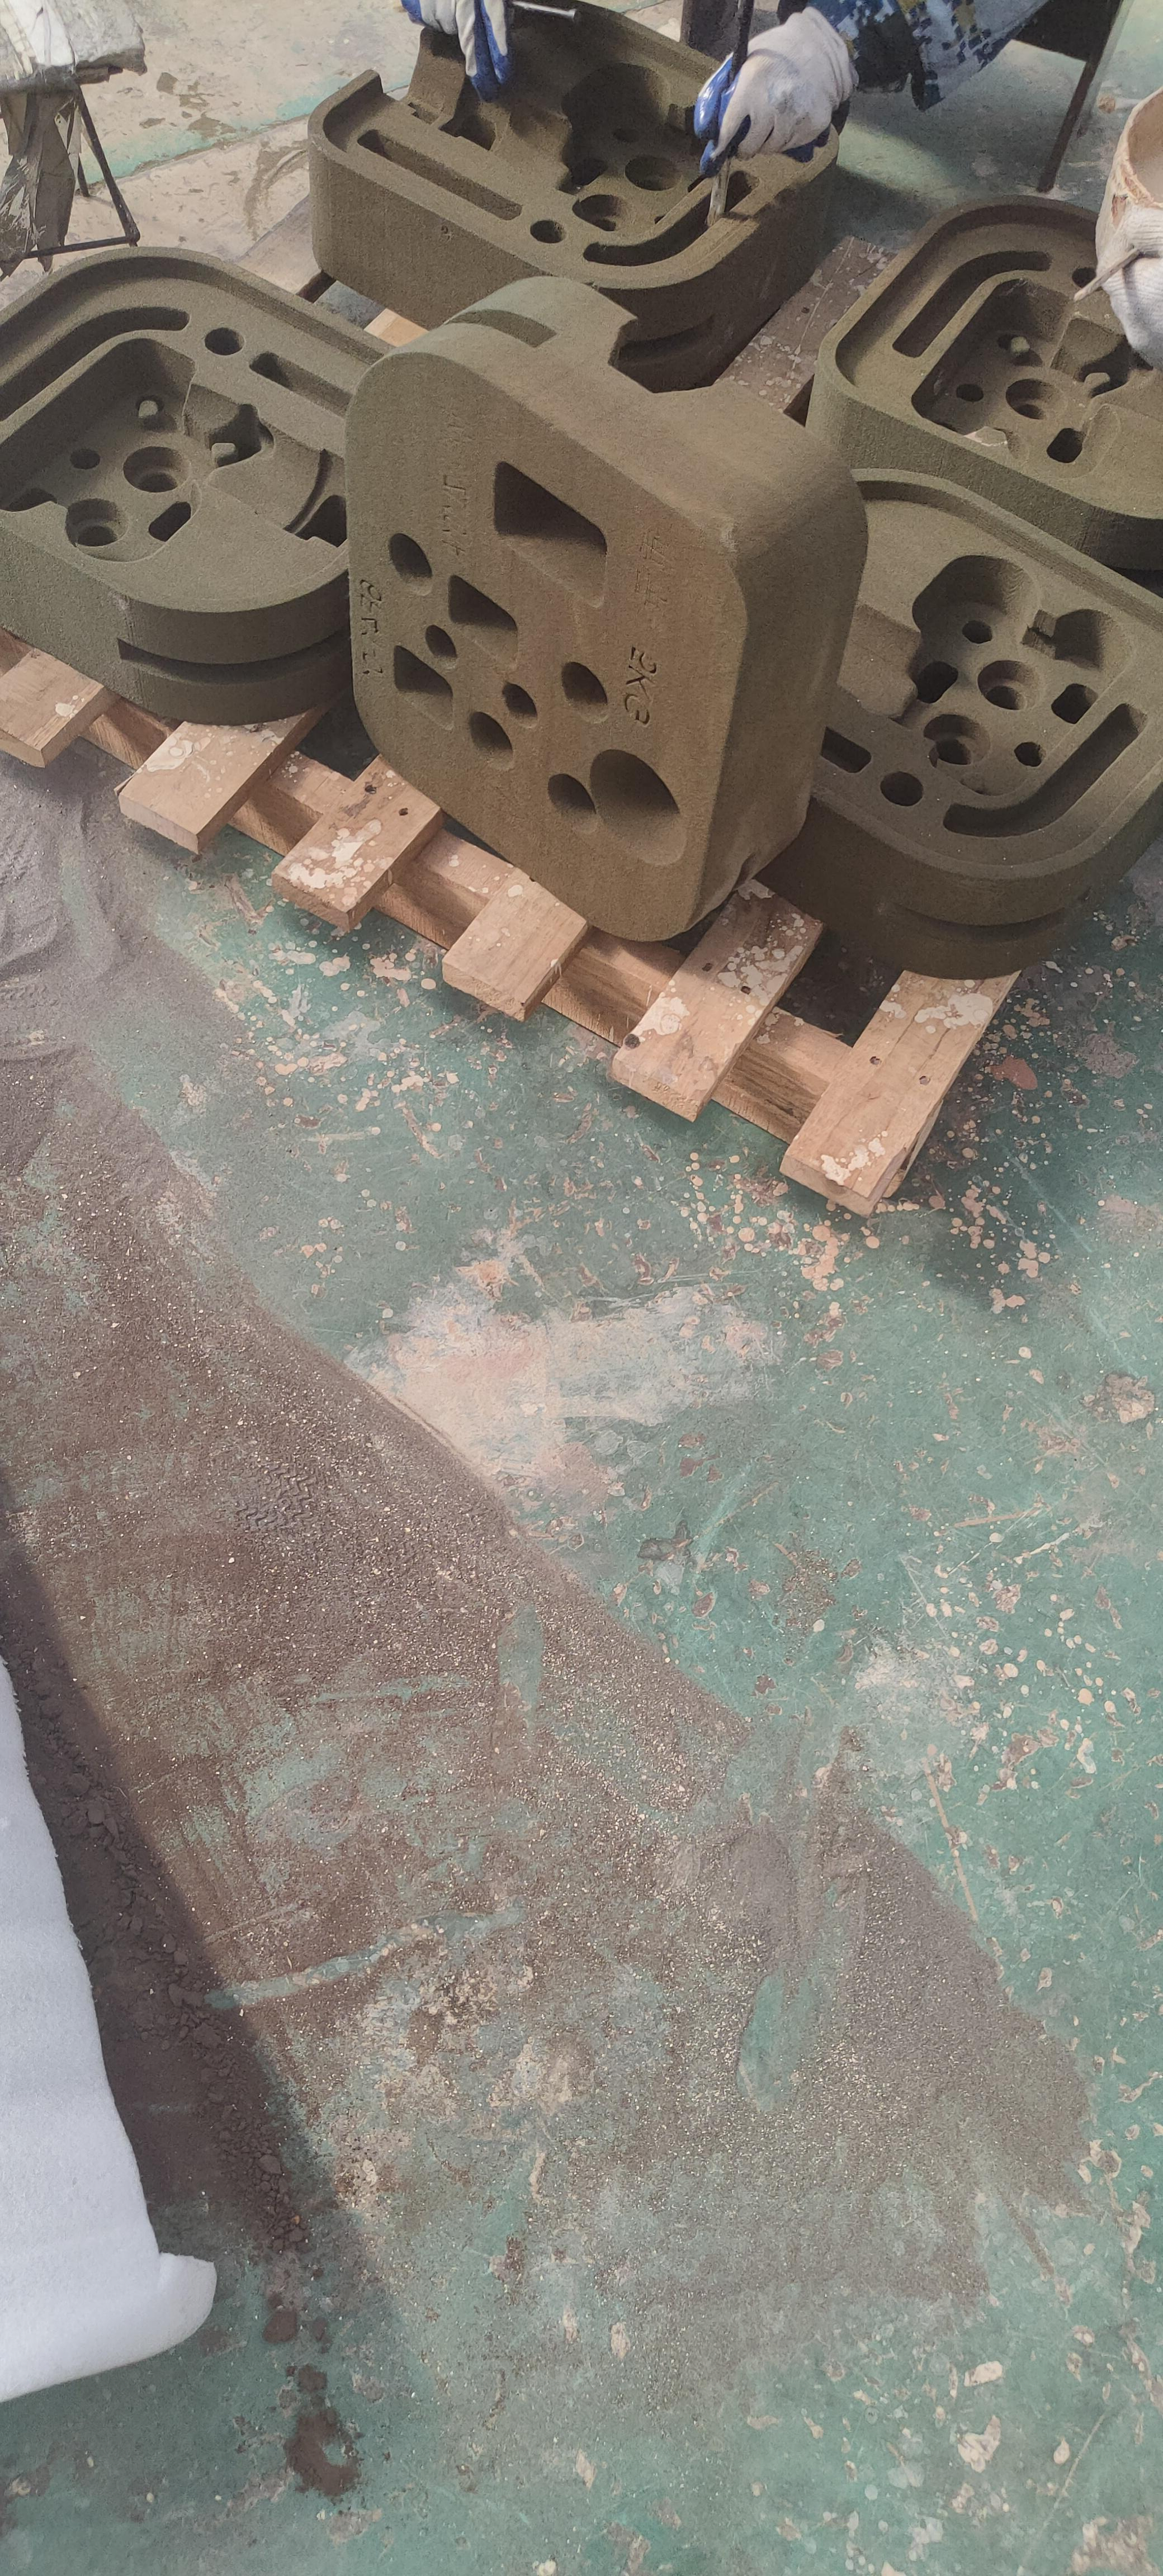pouring hole: (590, 749, 687, 866)
